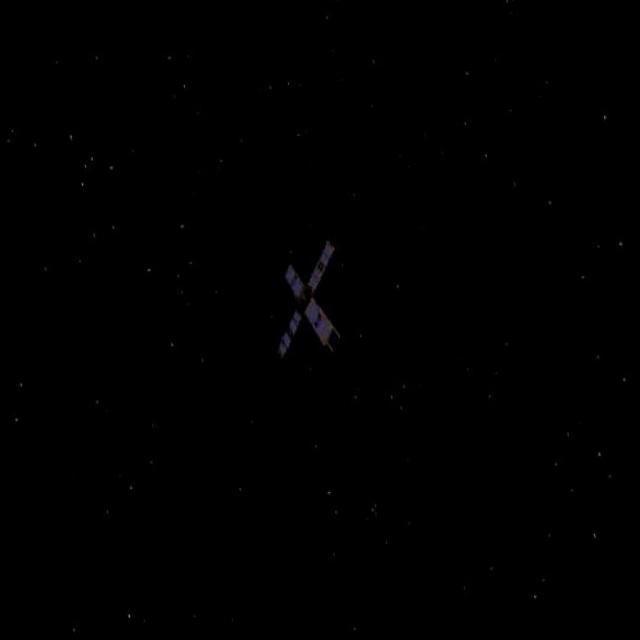satellite: (248, 233, 367, 380)
